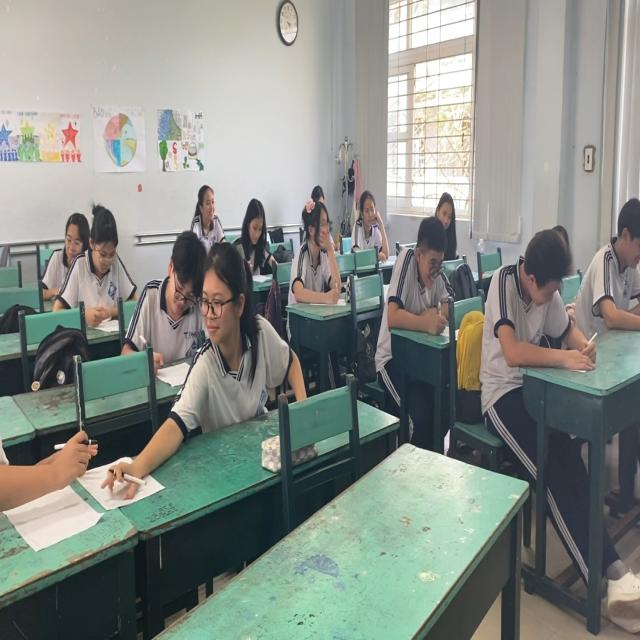cheating: (182, 238, 276, 424)
not_cheating: (492, 220, 586, 368), (389, 216, 464, 338), (584, 196, 640, 344), (290, 197, 348, 313), (140, 231, 202, 338), (80, 193, 139, 299), (230, 192, 277, 280), (49, 207, 94, 280), (184, 182, 228, 248), (354, 182, 386, 258), (435, 190, 461, 241)
